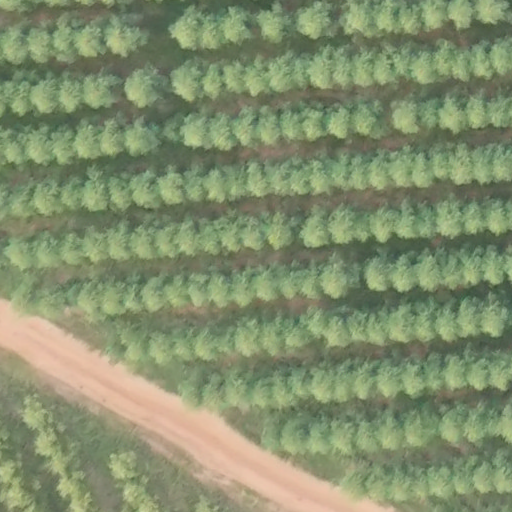eucalipto: (122, 62, 174, 109), (326, 204, 374, 248), (401, 352, 444, 401), (317, 252, 361, 299), (347, 94, 390, 140), (170, 53, 208, 102), (295, 205, 332, 251), (174, 10, 216, 50), (374, 405, 409, 452), (439, 344, 471, 395), (80, 167, 113, 216), (125, 118, 165, 158), (208, 107, 242, 154), (1, 231, 40, 271), (259, 4, 297, 45), (219, 7, 257, 48), (86, 68, 121, 112), (390, 247, 421, 296), (52, 16, 83, 64), (25, 123, 59, 166), (75, 21, 114, 58), (254, 103, 286, 148), (296, 2, 332, 42), (74, 121, 107, 163), (182, 271, 214, 314), (19, 393, 56, 430), (265, 212, 301, 250), (138, 270, 171, 311), (59, 227, 92, 268), (1, 24, 32, 67), (1, 182, 37, 219), (375, 357, 405, 401), (436, 94, 466, 138), (387, 305, 419, 346), (462, 90, 493, 132), (246, 51, 273, 99), (155, 166, 188, 205), (104, 223, 137, 262), (231, 316, 263, 356), (199, 370, 230, 411), (391, 97, 421, 139), (31, 76, 60, 119), (281, 417, 310, 460), (367, 202, 398, 242), (436, 200, 467, 240), (56, 70, 86, 111), (407, 47, 439, 85), (103, 275, 135, 313), (154, 220, 185, 259), (305, 418, 335, 458), (343, 1, 377, 36), (307, 155, 336, 196), (332, 48, 359, 92), (106, 24, 144, 55), (370, 46, 400, 85), (457, 297, 486, 337), (191, 329, 223, 365), (269, 53, 297, 94), (51, 123, 78, 165), (350, 360, 377, 402), (441, 403, 468, 445), (321, 311, 350, 350), (1, 129, 30, 168), (227, 272, 260, 306), (465, 40, 493, 80), (463, 194, 489, 237), (106, 451, 142, 482), (169, 329, 200, 365), (471, 143, 498, 184), (222, 58, 251, 96), (54, 472, 93, 500), (450, 144, 476, 186), (203, 169, 234, 204), (471, 454, 498, 494), (483, 299, 509, 340), (27, 25, 55, 63), (245, 158, 272, 197), (310, 364, 337, 403), (108, 173, 133, 215), (428, 462, 454, 502), (34, 427, 67, 458), (419, 1, 450, 34), (33, 181, 64, 213), (236, 218, 265, 252), (176, 217, 200, 258), (31, 235, 59, 270), (414, 307, 441, 342), (367, 151, 391, 190), (452, 457, 476, 496), (484, 245, 505, 289), (445, 1, 473, 34), (363, 311, 389, 346), (436, 302, 458, 343), (398, 1, 422, 37), (411, 149, 432, 189), (287, 365, 312, 398), (119, 480, 150, 505), (488, 199, 508, 235)
